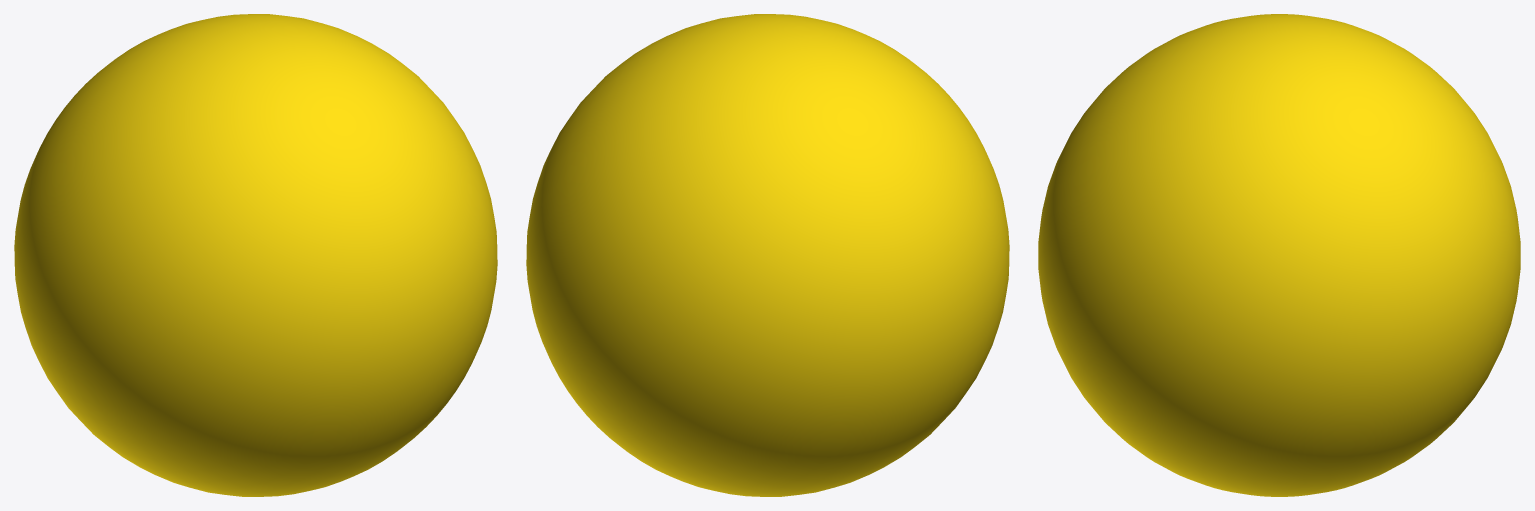
Rendered from _60355K291_Steel_Ball_Bearing_18.gltf.
The picture shows the model from 3 angles, left to right: view 1: azimuth 30°, elevation 25°; view 2: azimuth 150°, elevation 25°; view 3: azimuth 270°, elevation 25°; orthographic projection.
Parts seen in each view (by area): view 1: mesh56641; view 2: mesh56641; view 3: mesh56641.
Part boxes in pixels (box(x1,y1,x2,y2)): mesh56641: box(14, 14, 497, 496); mesh56641: box(526, 14, 1009, 496); mesh56641: box(1038, 14, 1520, 496).
Size of the model in its own units: 0.00476 by 0.00476 by 0.00476.
